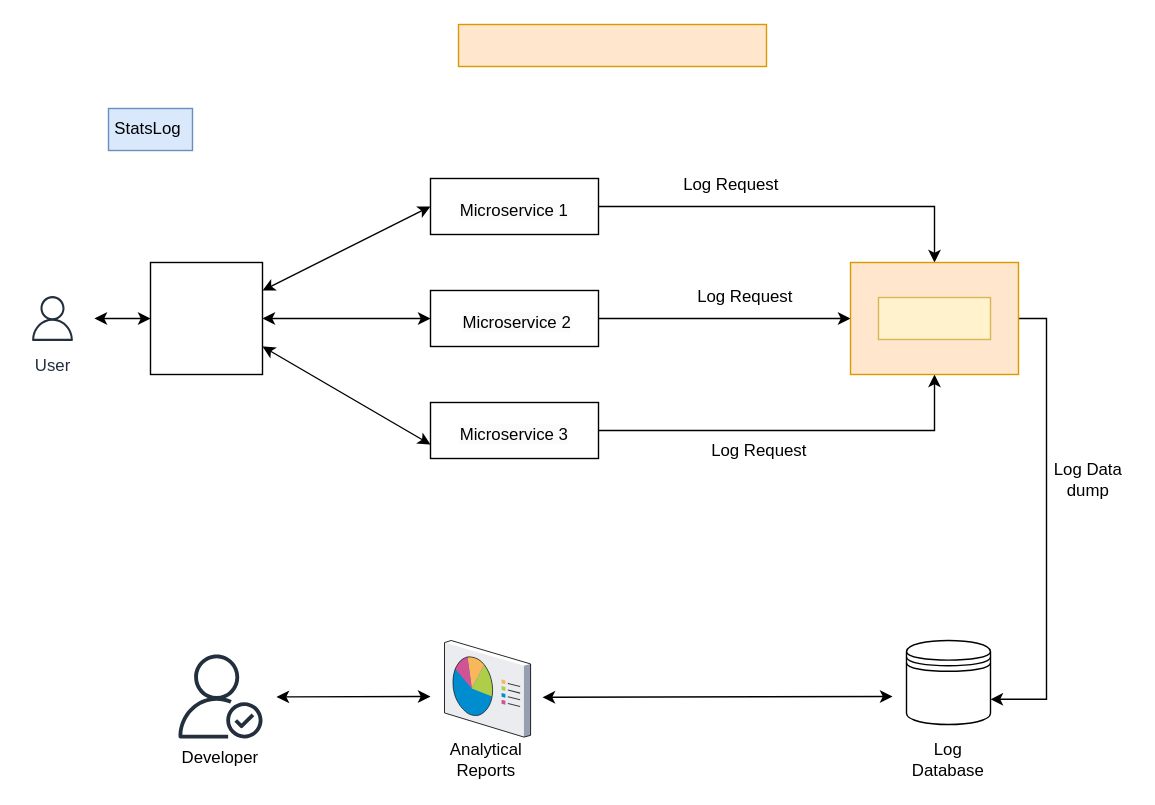
The diagram is 1155 pixels wide and 805 high, and some of its shapes have lost their labels. The shapes that lost their labels are listed below. From the top down, each one's centre as x and y in pixels, then its label:
At (x=611, y=44): "OSAT System Architecture".
At (x=205, y=317): "Web App".
At (x=933, y=318): "OSAT".
